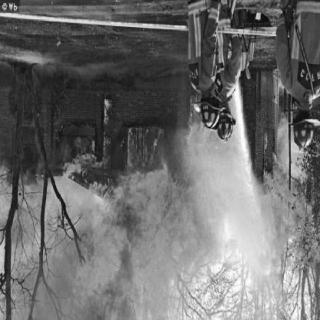Fire: (47, 96, 236, 318), (254, 137, 318, 279)
other: (0, 12, 112, 27)
